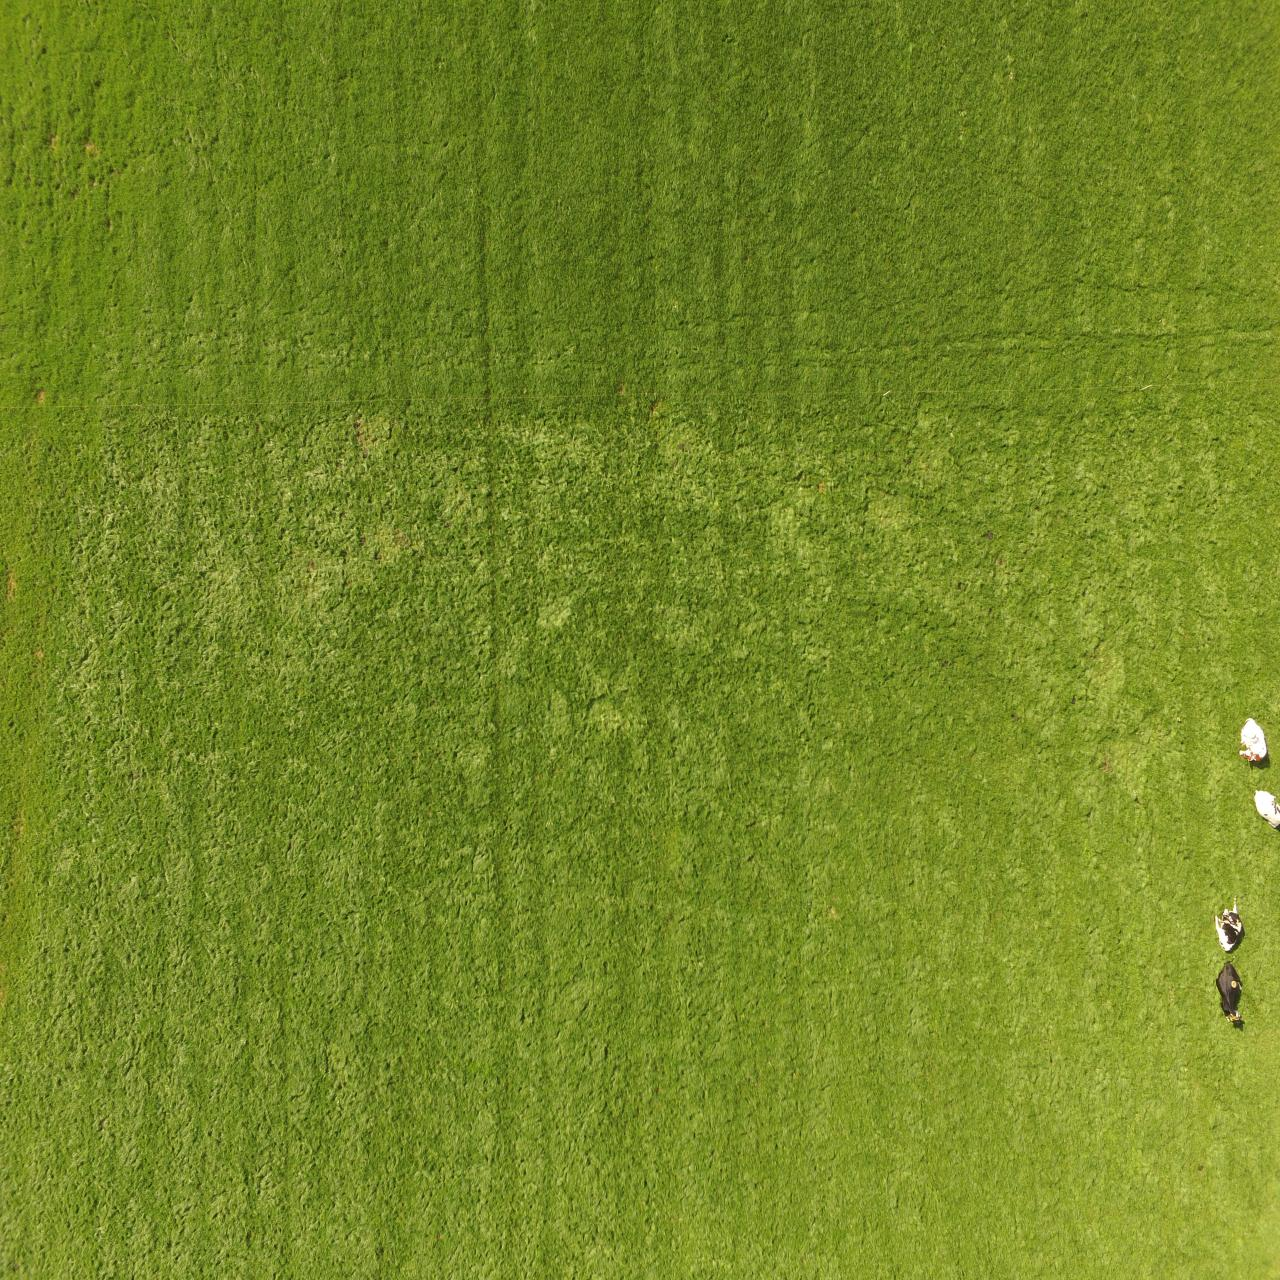cow: (1216, 958, 1245, 1026), (1212, 896, 1244, 953), (1238, 716, 1268, 764)
